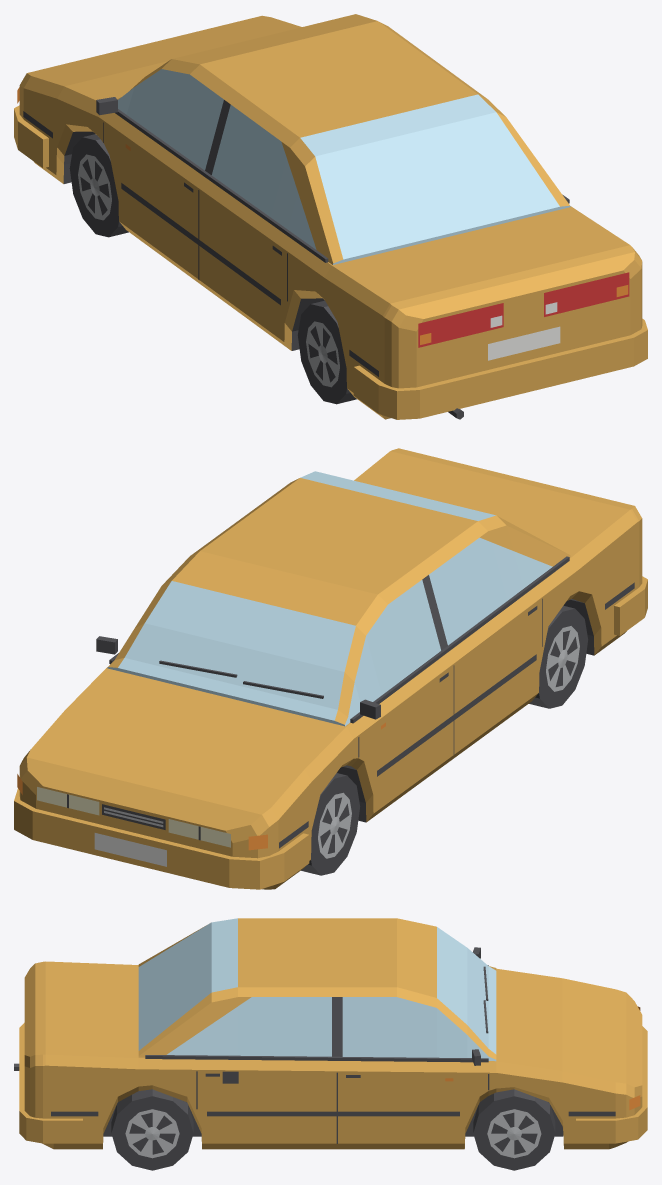
The model's file is omega.glb.
The picture shows the model from 3 angles, top to bottom: view 1: azimuth 30°, elevation 25°; view 2: azimuth 150°, elevation 25°; view 3: azimuth 270°, elevation 25°; orthographic projection. The views are drawn at different scales.
Visible parts, largest first — view 1: body, door_FL, wheel_FL, wheel_RL; view 2: body, door_FL, wheel_FL, wheel_RL; view 3: body, door_FR, wheel_FR, wheel_RR.
Boxes of the visible parts, x1,y1,x2,y2 form: body: (14, 14, 647, 419); door_FL: (103, 69, 227, 287); wheel_FL: (69, 134, 128, 237); wheel_RL: (297, 300, 356, 404); body: (14, 448, 647, 889); door_FL: (348, 577, 454, 822); wheel_FL: (301, 773, 360, 875); wheel_RL: (529, 605, 588, 708); body: (14, 918, 647, 1149); door_FR: (337, 997, 488, 1149); wheel_FR: (473, 1089, 555, 1170); wheel_RR: (111, 1089, 193, 1170).
Size of the model in its own units: 1.95 by 1.43 by 4.78.
